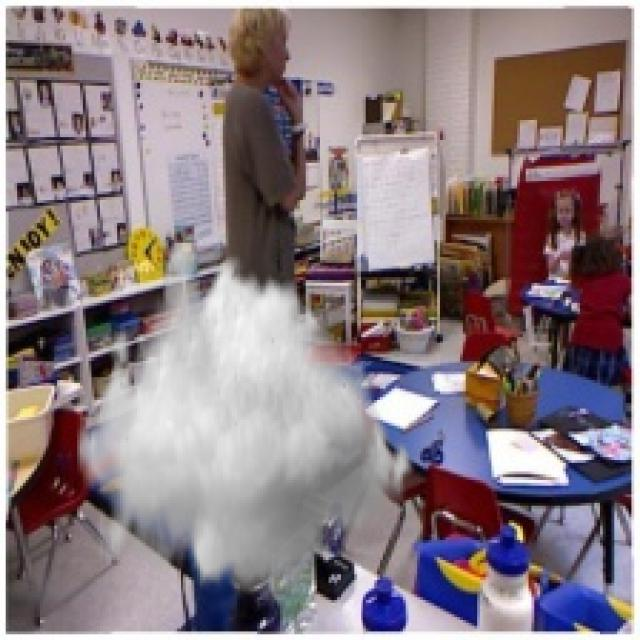smoke: (77, 240, 420, 600)
